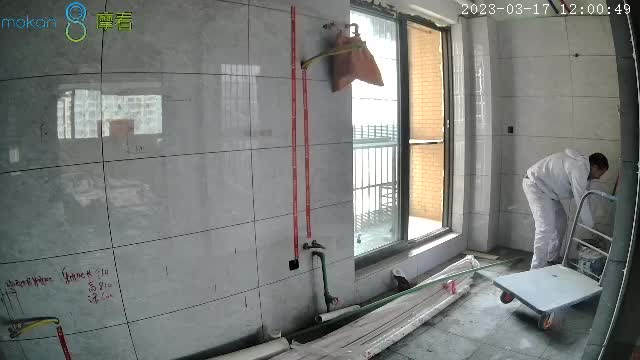people: (520, 147, 609, 270)
window: (349, 4, 457, 264)
